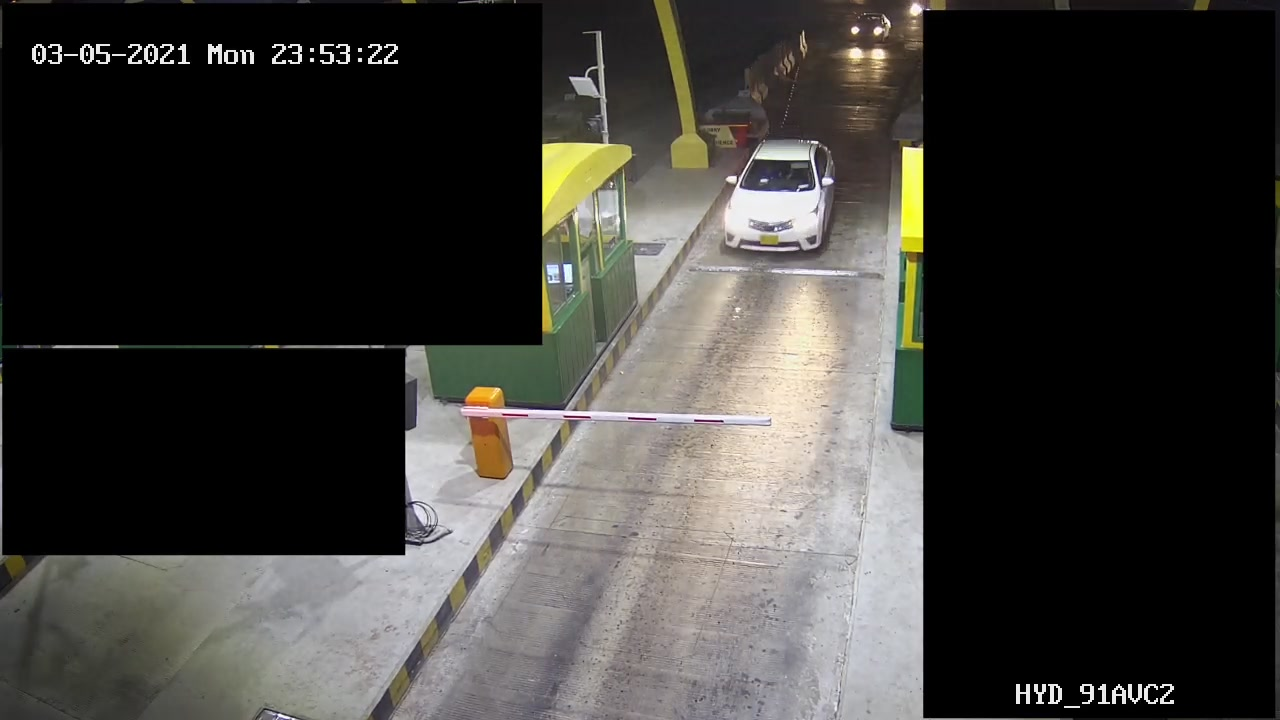F1: (717, 136, 846, 261)
